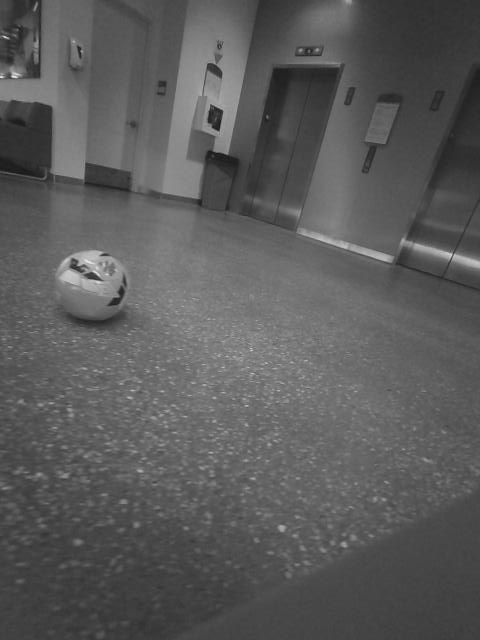ball: (300, 316, 372, 390)
